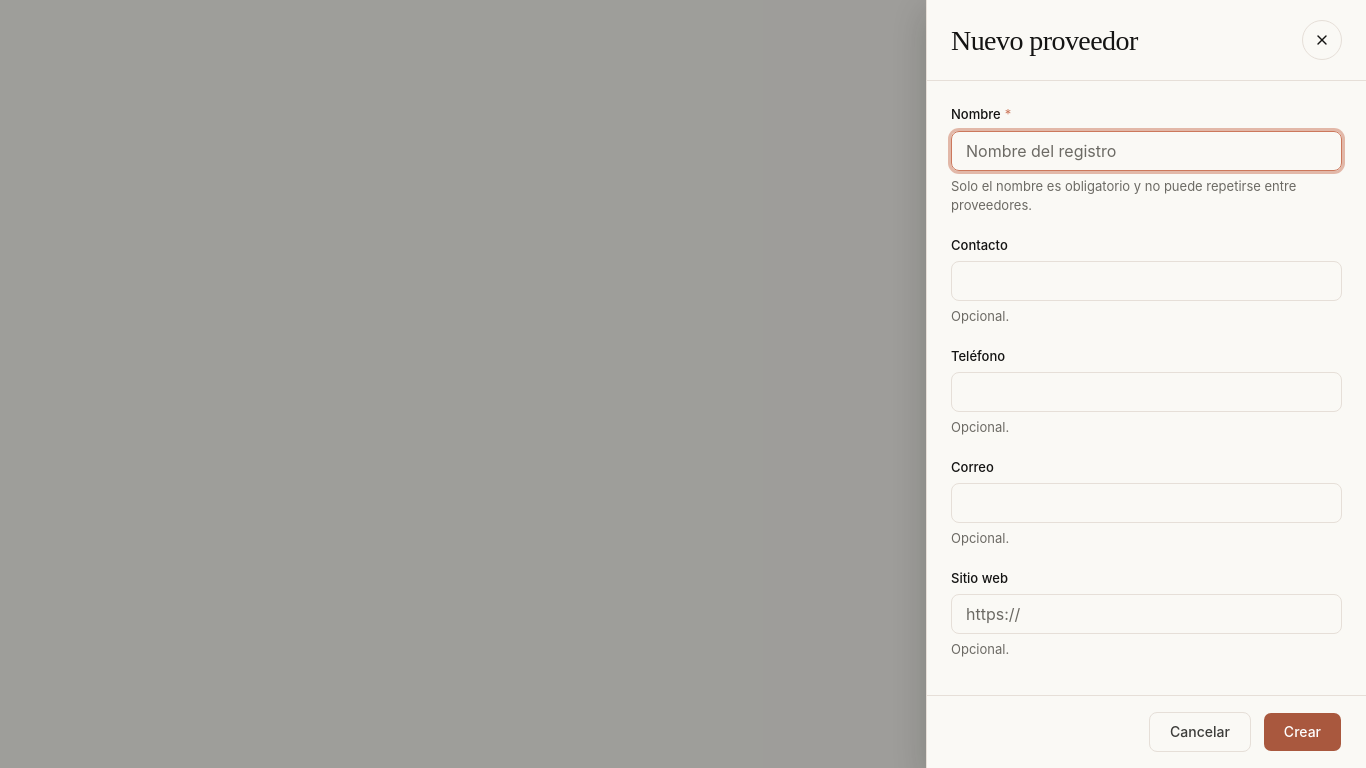
Test: ProveedorFormDialog › un correo inválido muestra el error y no envía
Type "Acme" into the field labelled "Nombre".
click(1146, 150); type("Acme")  # box x1=951 y1=130 x2=1342 y2=170
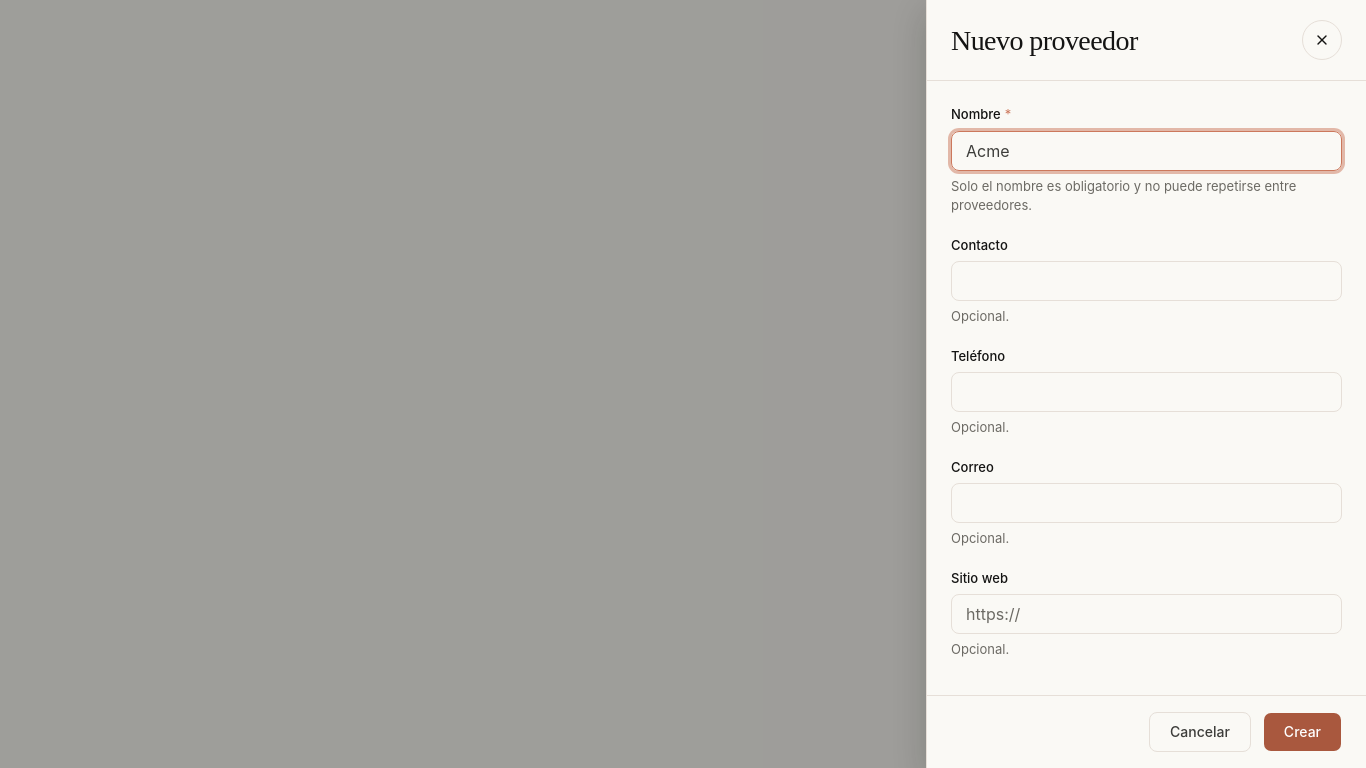
Type "soporte@" into the field labelled "Correo".
click(1146, 503); type("soporte@")  # box x1=951 y1=483 x2=1342 y2=523
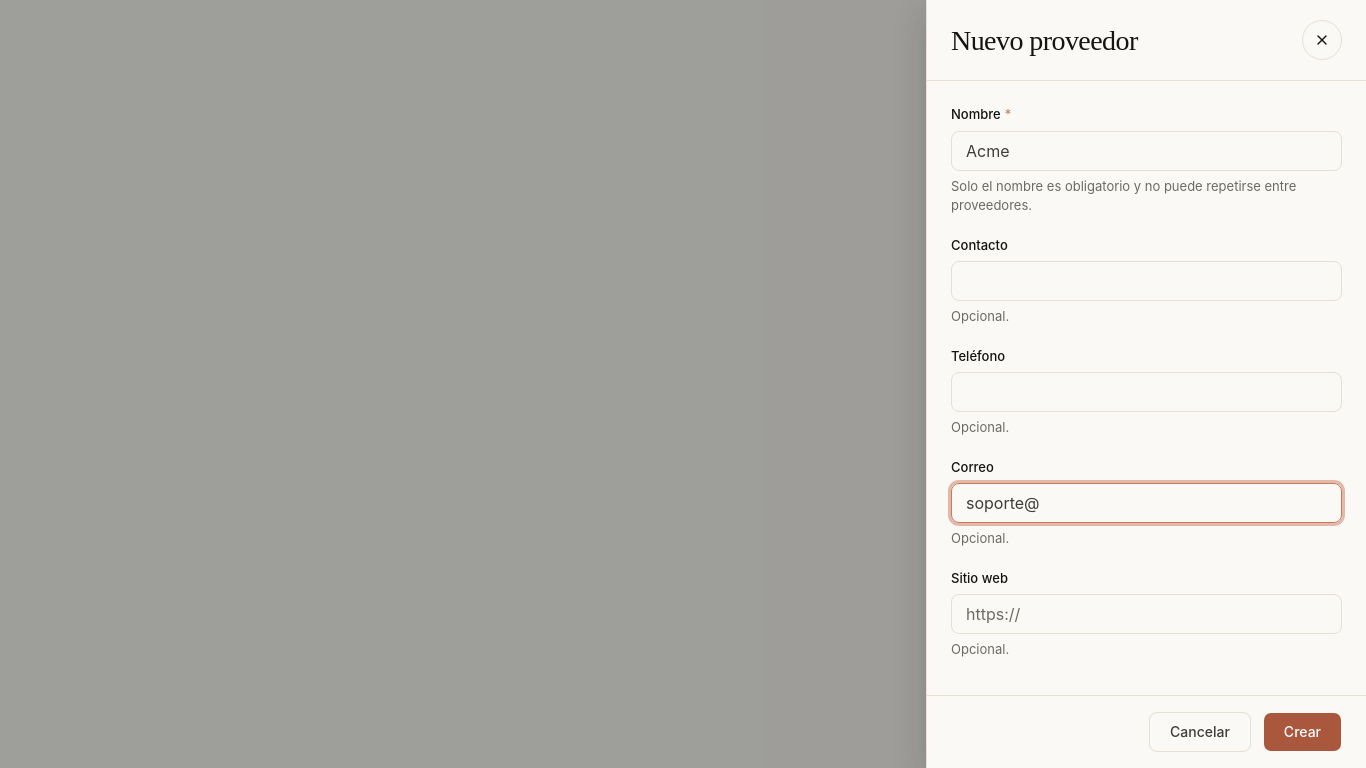
Click the button "Crear".
click(1302, 732)  # box x1=1263 y1=712 x2=1342 y2=752
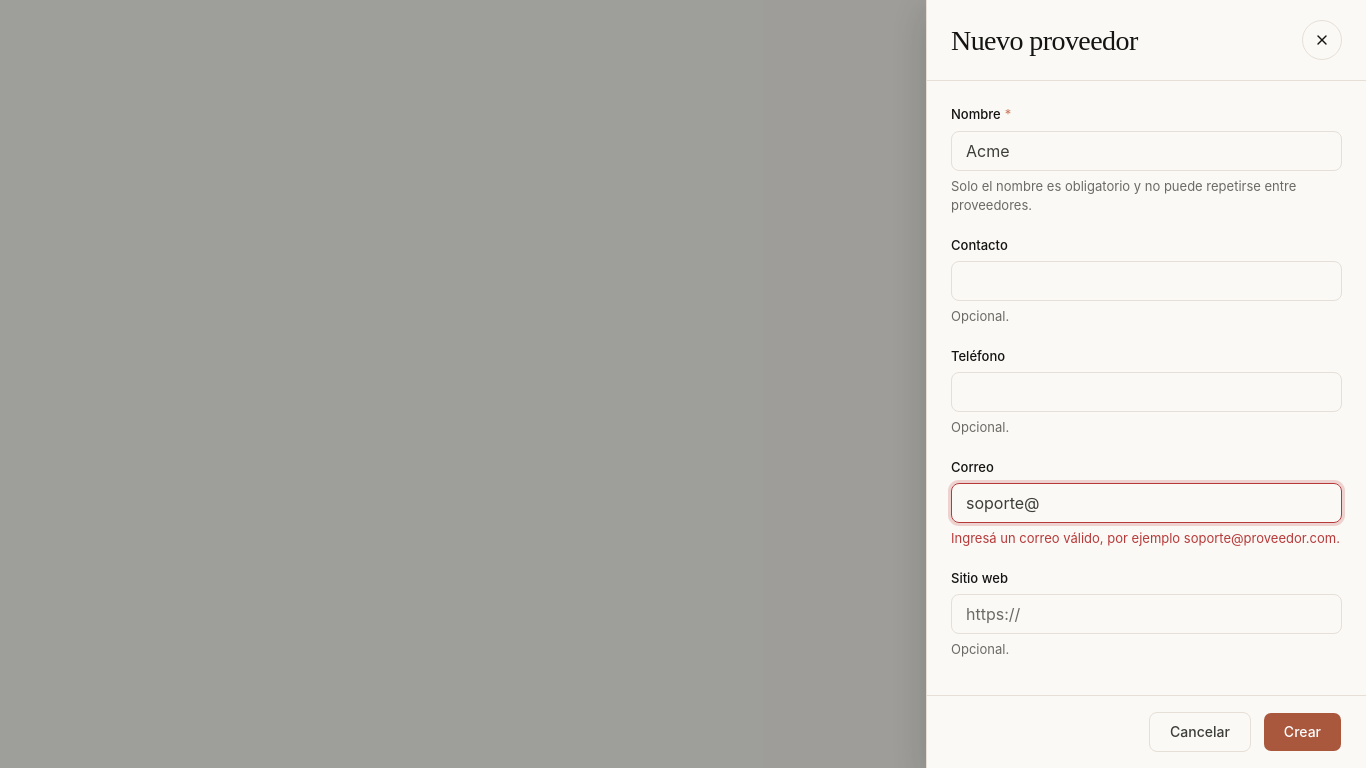
Expected: the text "Ingresá un correo válido, por ejemplo soporte@proveedor.com." is shown, x1=951 y1=529 x2=1342 y2=548
